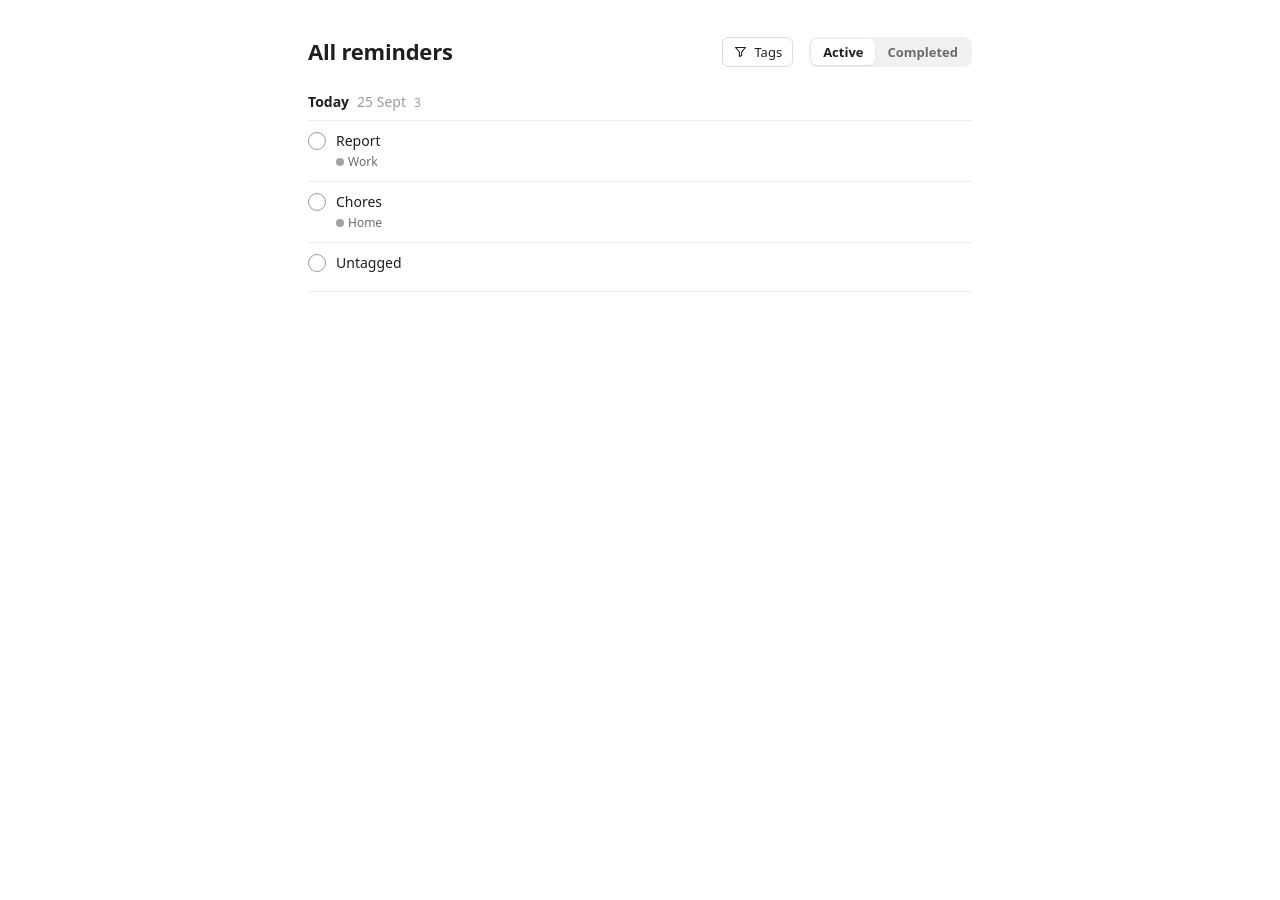
Scenario: AllRemindersView › builds the filter in the tag menu, including No tag
Click the button with aria-label "Filter by tag" at (758, 52), box [722,37,793,67]
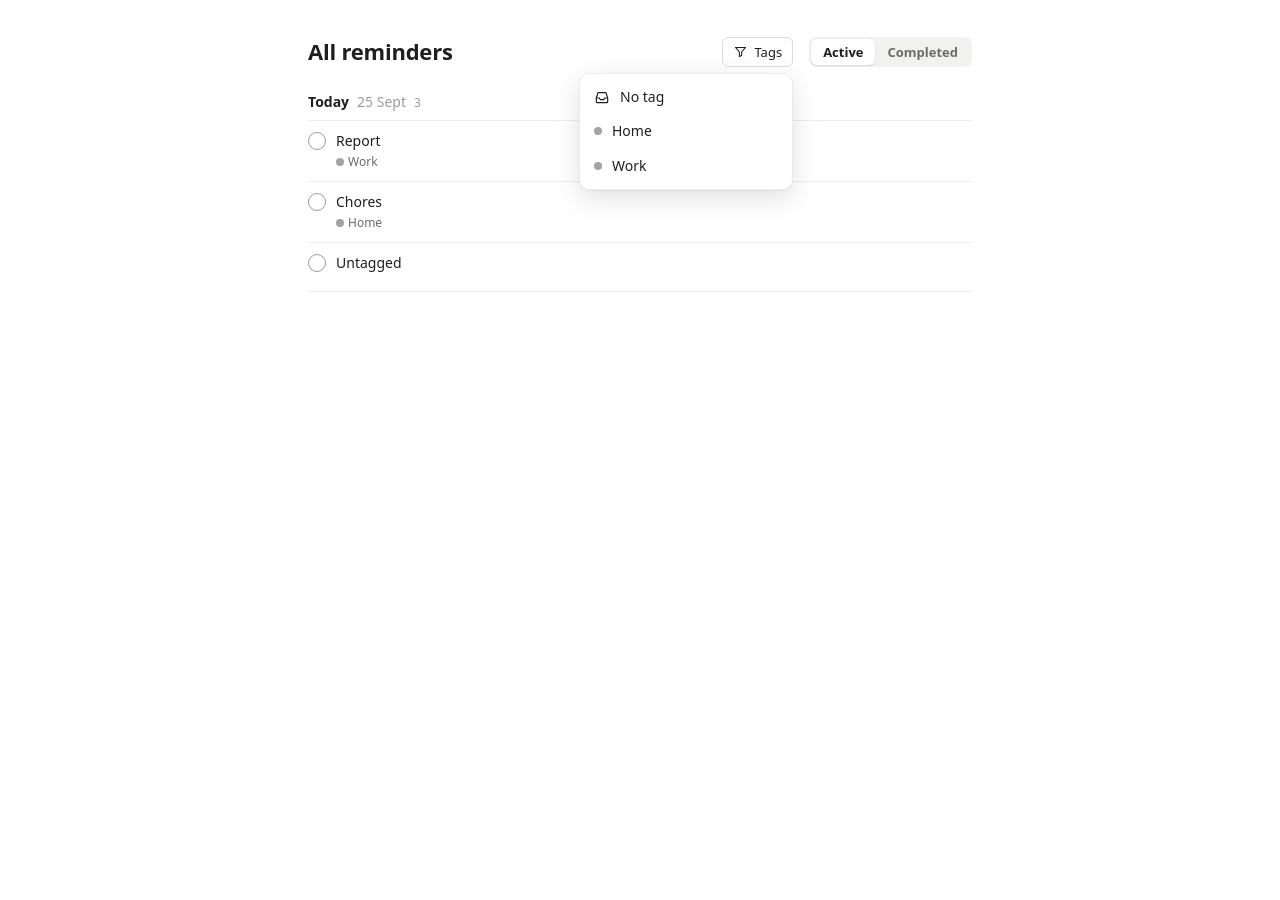
Click the menu item "Work" at (686, 166), box [586,149,786,183]
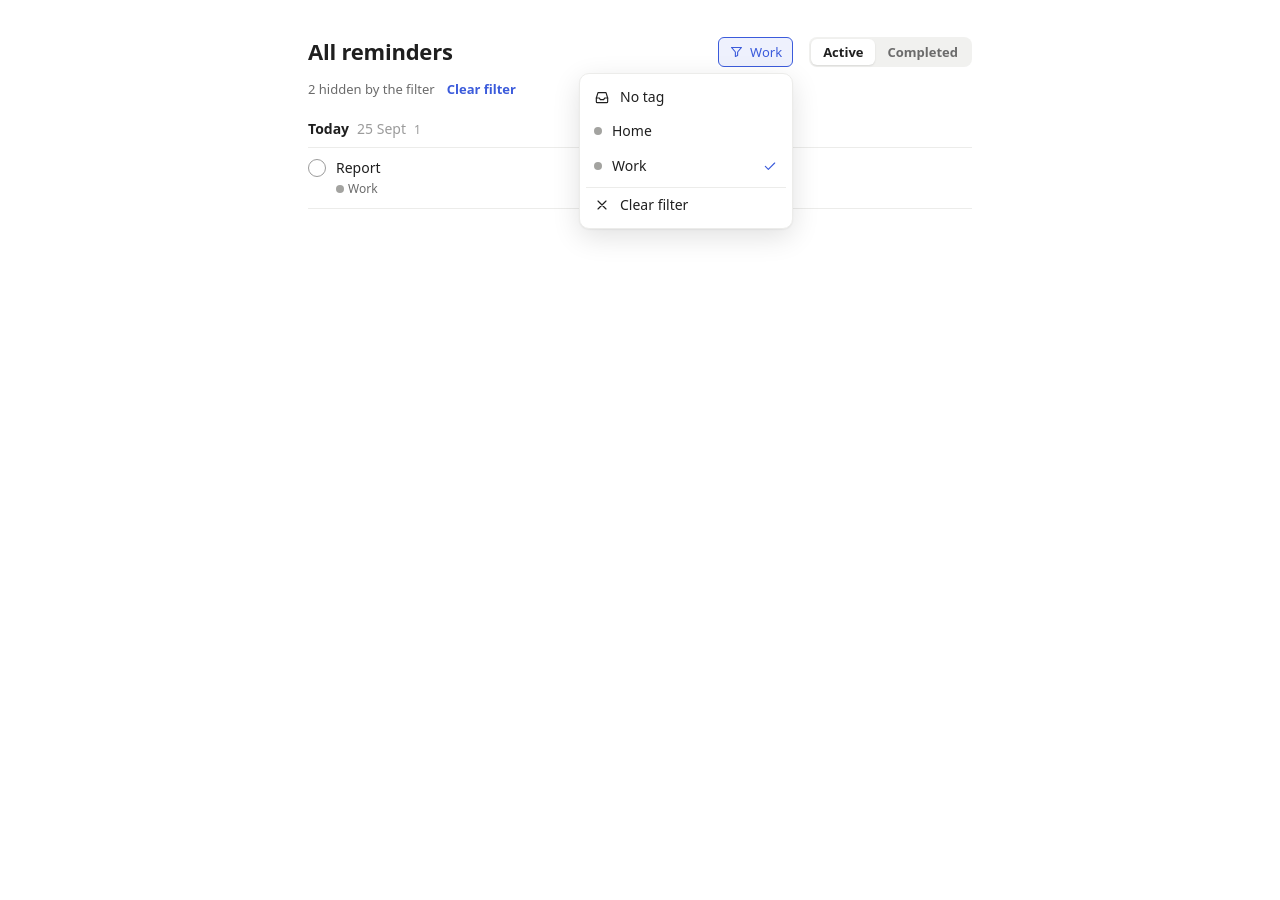
Check: the button "Chores" is gone
Click the menu item "No tag" at (686, 97), box [586,80,786,114]
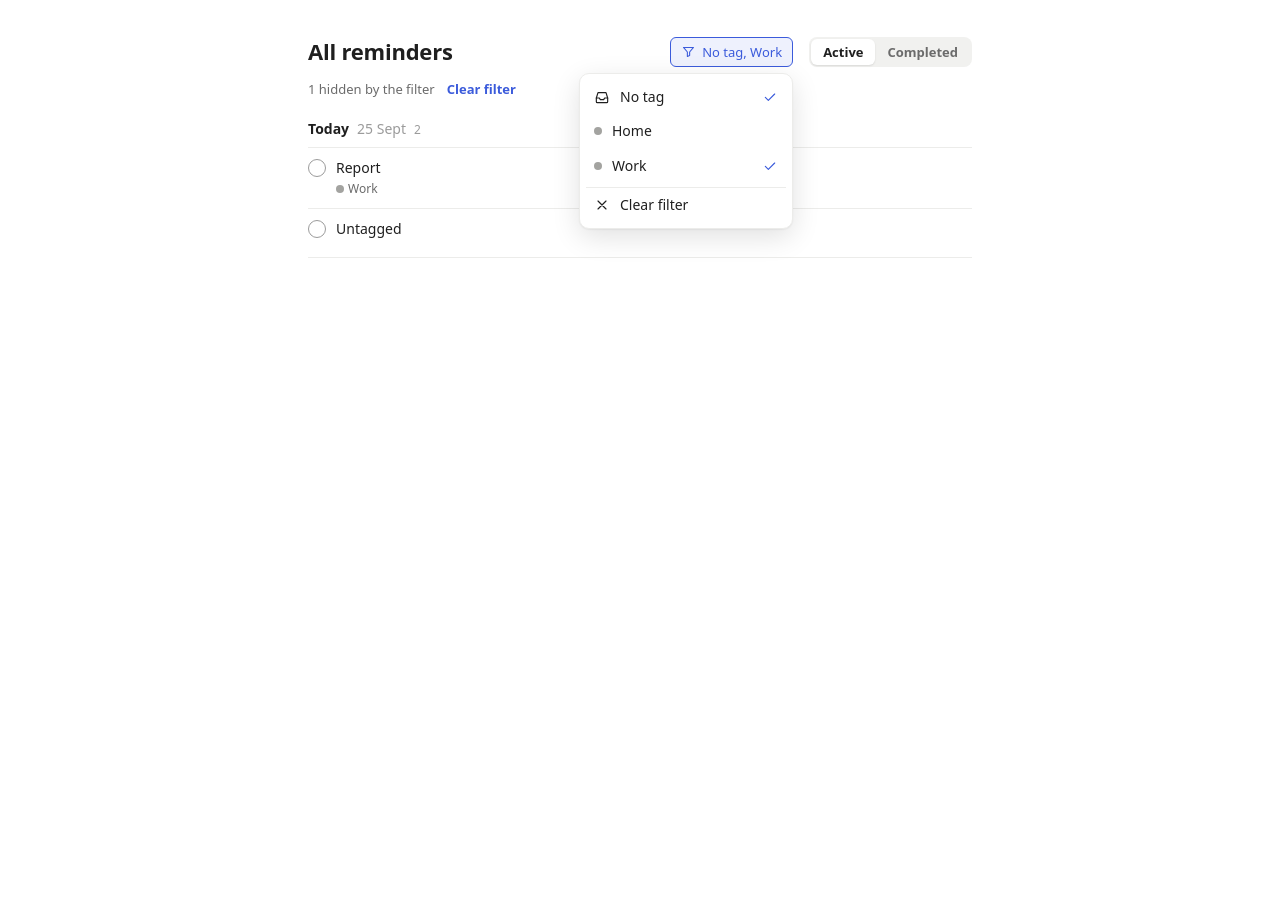
Check: the text "Report" is shown, box [336,158,380,178]
Check: the text "Untagged" is shown, box [336,219,402,239]
Click the menu item "Work" at (686, 166), box [586,149,786,183]
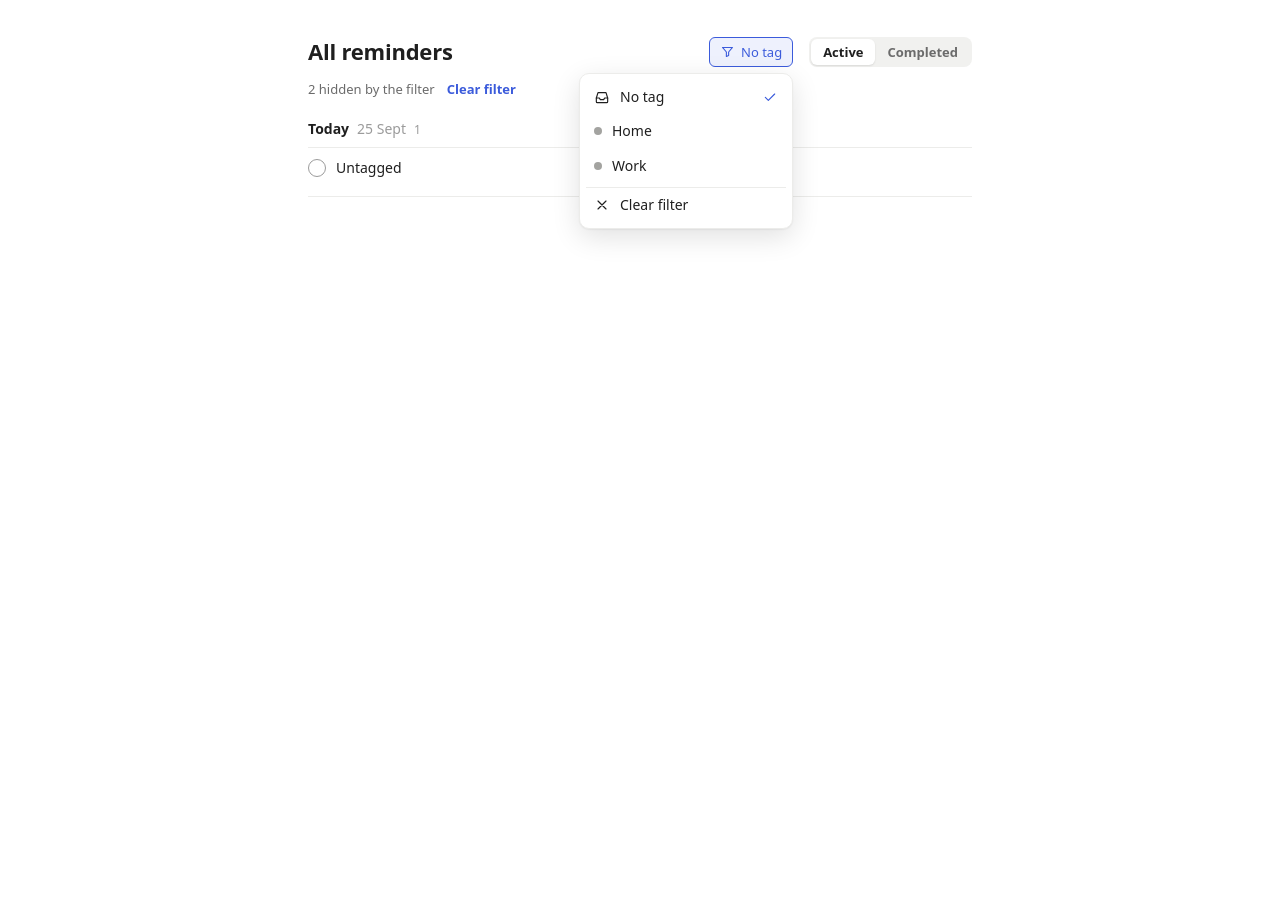
Check: the button "Report" is gone
